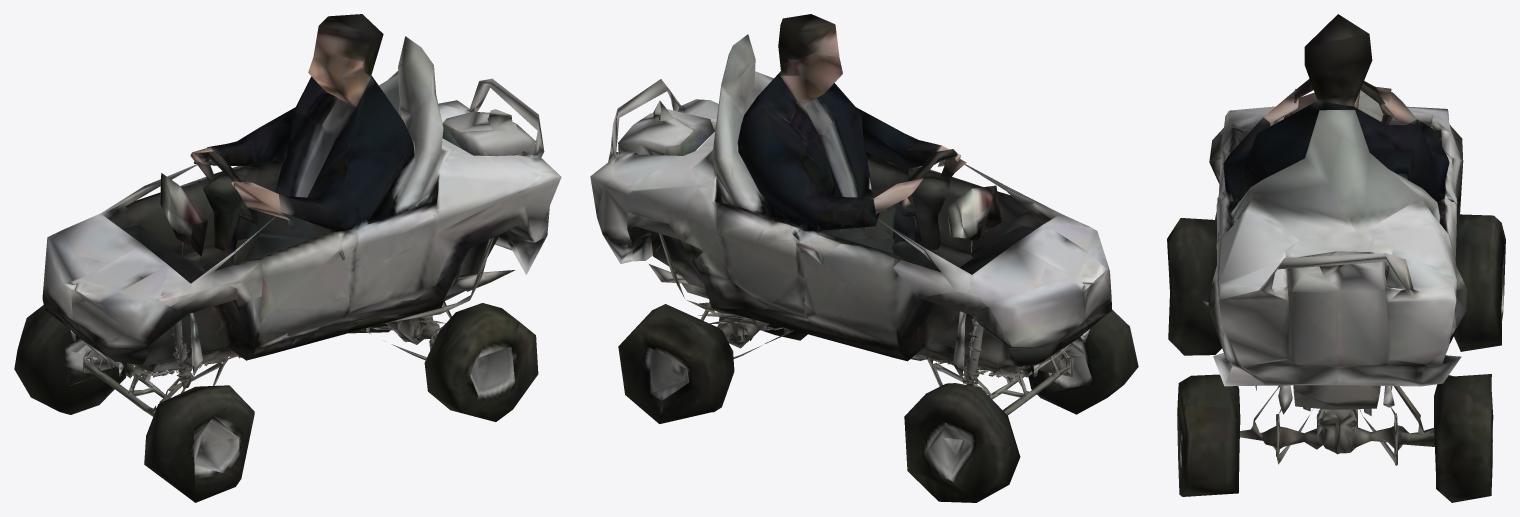
Rendered from elon-far.glb.
The picture shows the model from 3 angles, left to right: view 1: azimuth 30°, elevation 25°; view 2: azimuth 150°, elevation 25°; view 3: azimuth 270°, elevation 25°; orthographic projection. The views are drawn at different scales.
Visible parts, largest first — view 1: tripo_node_d584dd00-48a7-4eda-bd76-78cfd36c9a56; view 2: tripo_node_d584dd00-48a7-4eda-bd76-78cfd36c9a56; view 3: tripo_node_d584dd00-48a7-4eda-bd76-78cfd36c9a56.
Boxes of the visible parts, <box> form: tripo_node_d584dd00-48a7-4eda-bd76-78cfd36c9a56: <box>14,14,561,502</box>; tripo_node_d584dd00-48a7-4eda-bd76-78cfd36c9a56: <box>590,14,1138,502</box>; tripo_node_d584dd00-48a7-4eda-bd76-78cfd36c9a56: <box>1167,14,1505,502</box>.
Size of the model in its own units: 0.9786 by 0.7933 by 0.5639.
1 material, 1 textured.
